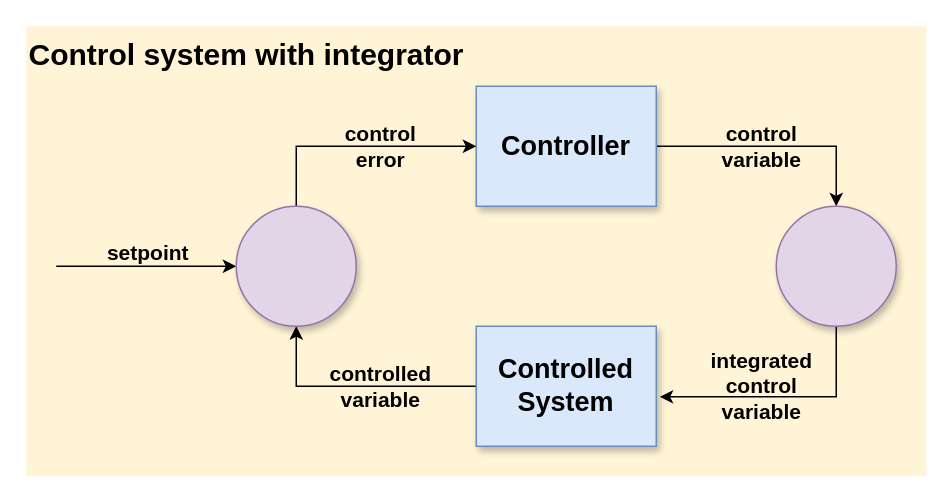
Some shapes in this 951 by 501 pixel diagram are drawn without their labels. Each missing label, with the centre of its shape:
Compa- rator: point (297, 268)
Integrator: point (837, 268)
